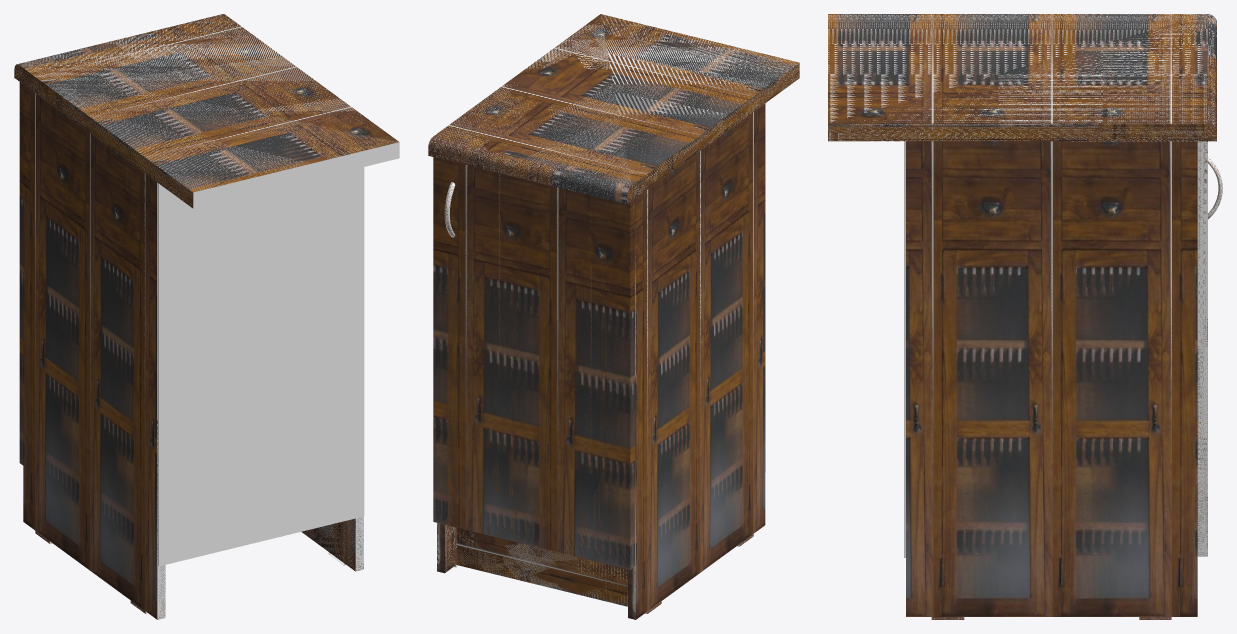
3 views of the same model, side by side, from view 1: azimuth 30°, elevation 25°; view 2: azimuth 150°, elevation 25°; view 3: azimuth 270°, elevation 25° (orthographic). The views are drawn at different scales.
Visible parts, largest first — view 1: mesh58_mesh58-geometry, mesh53_mesh53-geometry, mesh30_mesh30-geometry, mesh25_mesh25-geometry, mesh2_mesh2-geometry; view 2: mesh2_mesh2-geometry, mesh53_mesh53-geometry, mesh30_mesh30-geometry, mesh58_mesh58-geometry, mesh25_mesh25-geometry; view 3: mesh25_mesh25-geometry, mesh30_mesh30-geometry, mesh2_mesh2-geometry, mesh58_mesh58-geometry.
Boxes of the visible parts, x1,y1,x2,y2 form: mesh58_mesh58-geometry: [158, 167, 364, 566]; mesh53_mesh53-geometry: [23, 84, 165, 619]; mesh30_mesh30-geometry: [14, 14, 399, 208]; mesh25_mesh25-geometry: [301, 516, 363, 571]; mesh2_mesh2-geometry: [19, 82, 23, 465]; mesh2_mesh2-geometry: [433, 157, 634, 569]; mesh53_mesh53-geometry: [628, 104, 765, 619]; mesh30_mesh30-geometry: [428, 14, 799, 204]; mesh58_mesh58-geometry: [456, 103, 765, 606]; mesh25_mesh25-geometry: [437, 523, 456, 573]; mesh25_mesh25-geometry: [906, 141, 1197, 616]; mesh30_mesh30-geometry: [828, 14, 1216, 141]; mesh2_mesh2-geometry: [1197, 141, 1207, 556]; mesh58_mesh58-geometry: [904, 141, 905, 557].
Size of the model in its own units: 0.3585 by 0.7573 by 0.5458.
